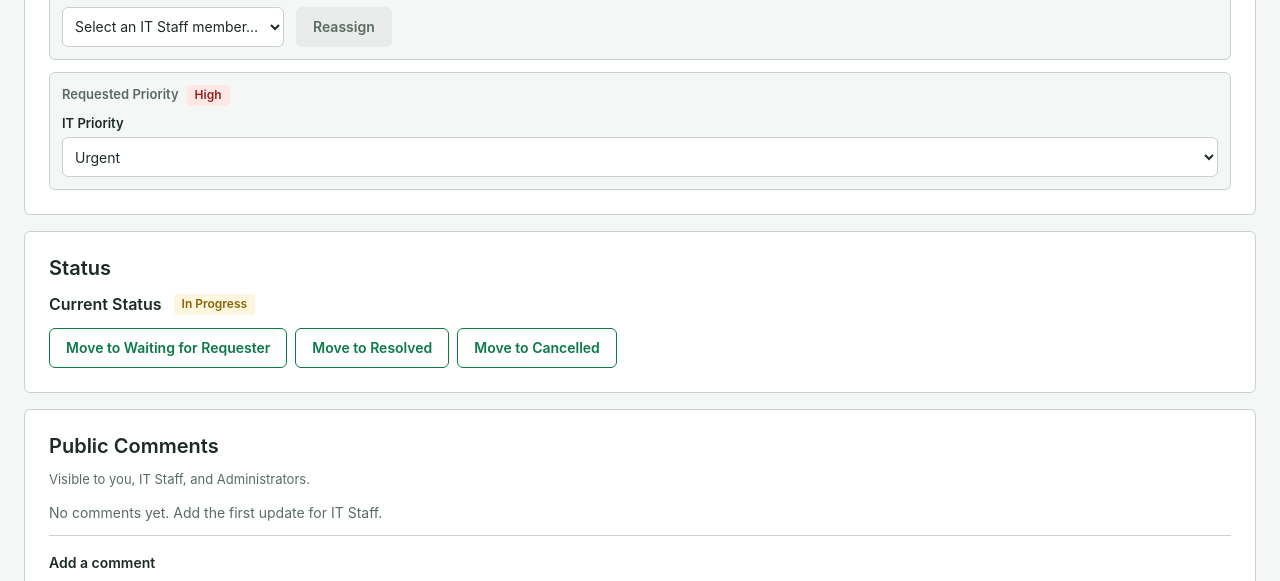
Test case: UI-07 — Status control offers only permitted next states (ui-spec §5/§6.1) › applies a non-terminal transition immediately (no dialog)
The width and height of the screenshot is (1280, 581).
(page scrolled)
Click the button with test id "workflow-transition-WAITING_FOR_REQUESTER" at (168, 348), box [49, 328, 287, 368]
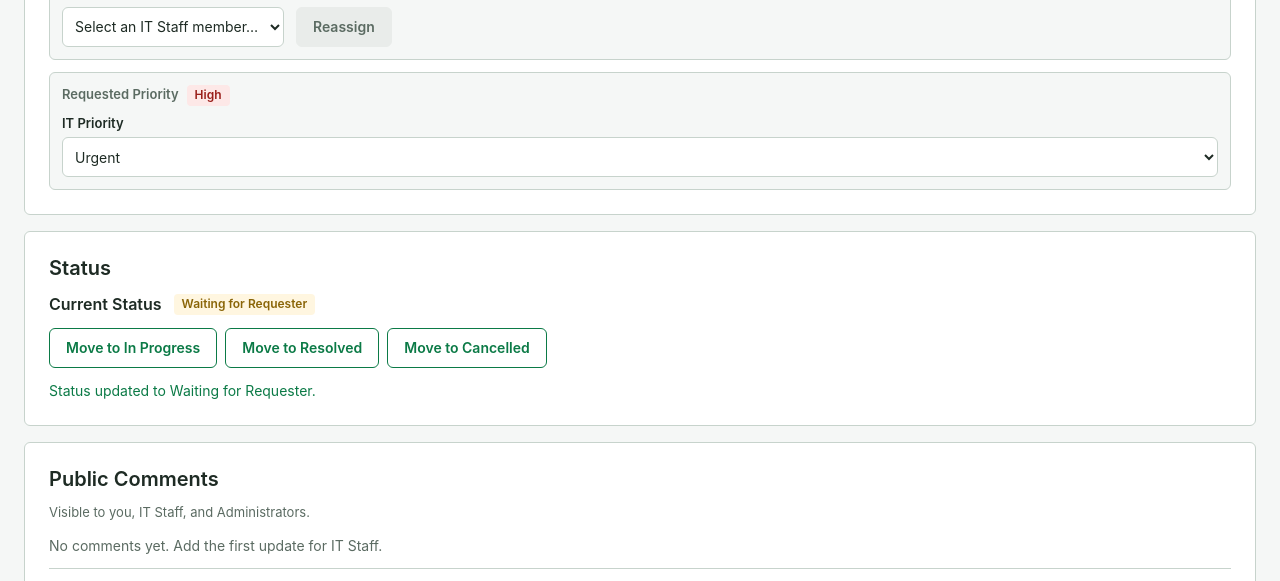
Result: the message "Status updated to Waiting for Requester." is shown at [49, 382, 316, 399]
